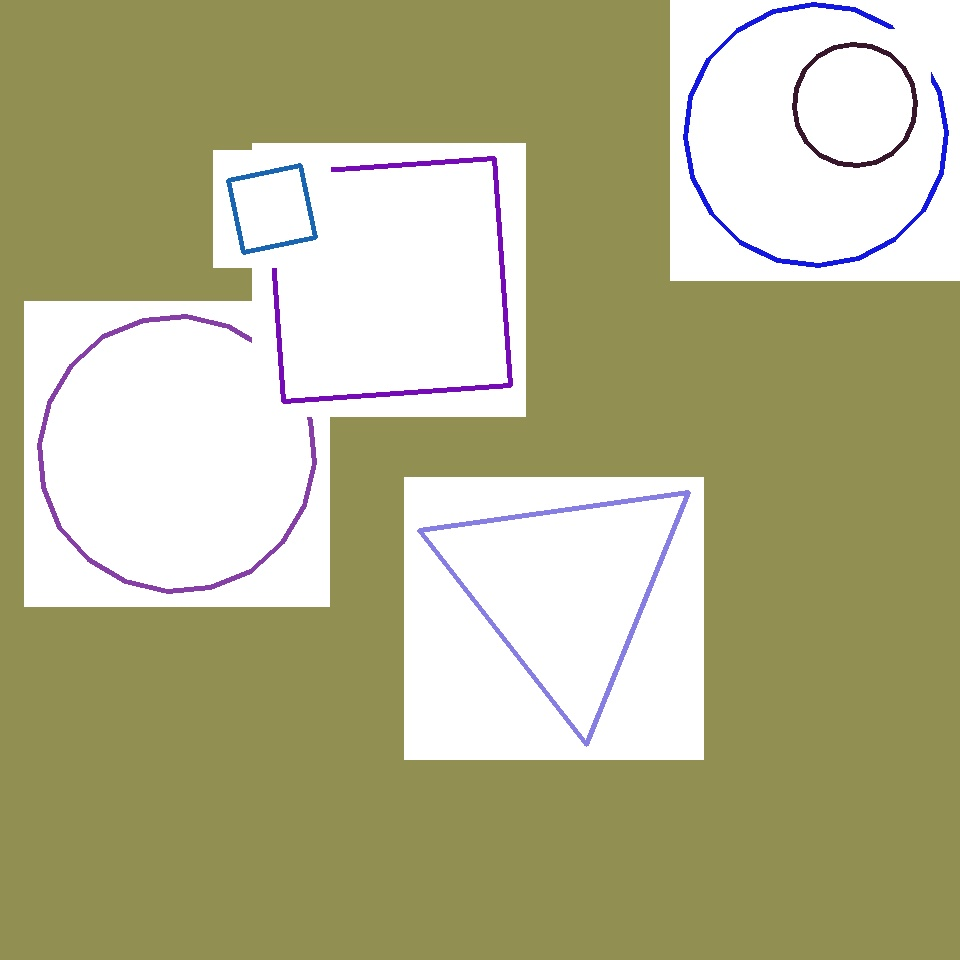circle: (430, 463, 700, 715), (618, 426, 870, 652)
square: (268, 159, 510, 402), (228, 166, 316, 252)
triangle: (260, 252, 588, 578), (40, 316, 314, 592), (686, 5, 946, 266), (794, 44, 916, 166)
